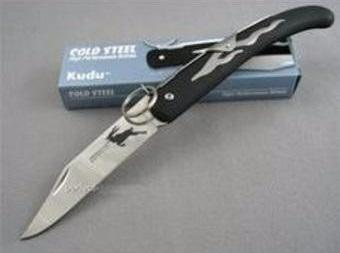weapon: (19, 5, 335, 240)
